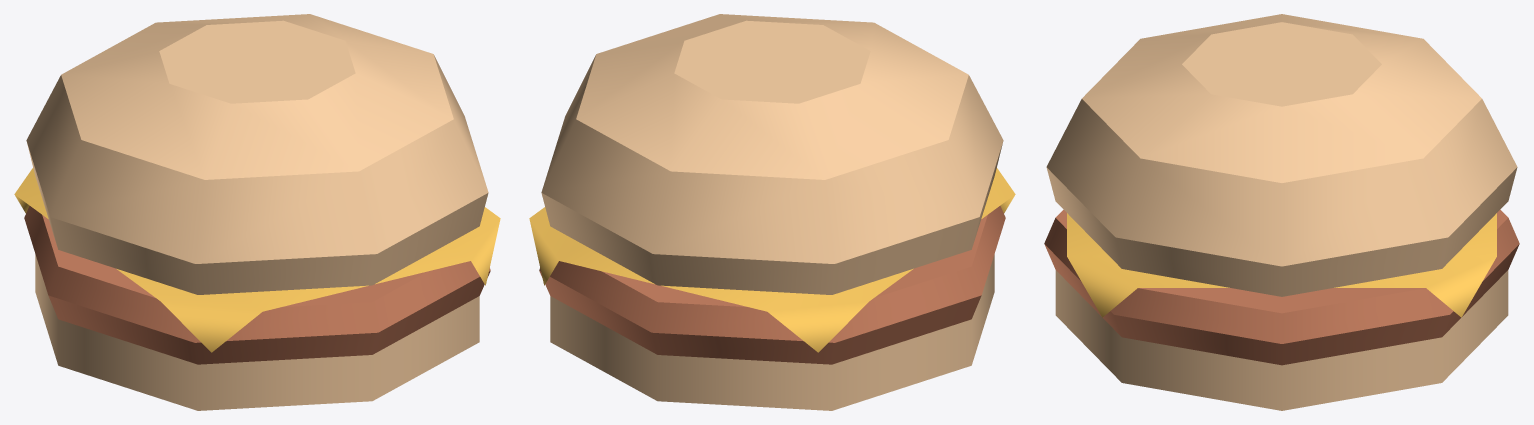
The model's file is burgerCheese.fbx.
3 views of the same model, side by side, from view 1: azimuth 30°, elevation 25°; view 2: azimuth 150°, elevation 25°; view 3: azimuth 270°, elevation 25° (orthographic).
Parts seen in each view (by area): view 1: bunTop, patty, bunBottom, cheese; view 2: bunTop, patty, bunBottom, cheese; view 3: bunTop, patty, bunBottom, cheese.
Part boxes in pixels (left/top/right/bottom): bunTop: left=26, top=14, right=488, bottom=294; patty: left=24, top=206, right=490, bottom=364; bunBottom: left=35, top=254, right=479, bottom=410; cheese: left=14, top=168, right=500, bottom=352; bunTop: left=541, top=14, right=1003, bottom=294; patty: left=539, top=206, right=1005, bottom=364; bunBottom: left=550, top=254, right=994, bottom=410; cheese: left=529, top=168, right=1015, bottom=352; bunTop: left=1046, top=14, right=1517, bottom=296; patty: left=1044, top=209, right=1519, bottom=365; bunBottom: left=1055, top=270, right=1508, bottom=410; cheese: left=1067, top=213, right=1496, bottom=317.
Size of the model in its own units: 3.78 by 2.2 by 3.78.
